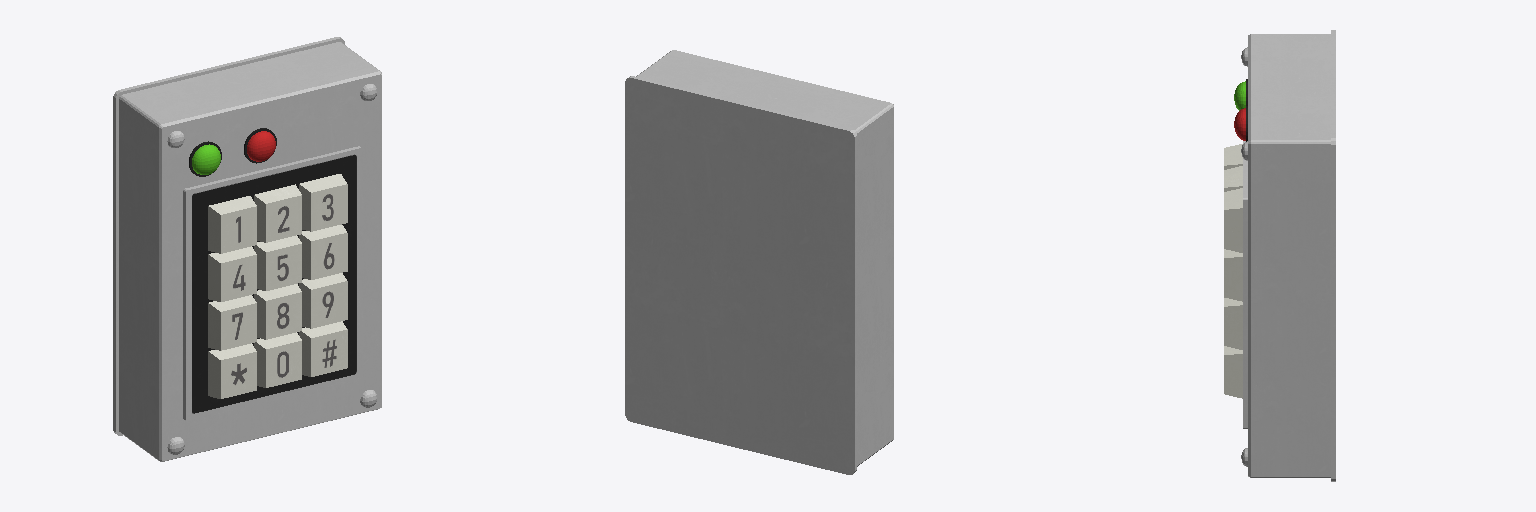
3 views of the same model, side by side, from view 1: azimuth 30°, elevation 25°; view 2: azimuth 150°, elevation 25°; view 3: azimuth 270°, elevation 25° (orthographic).
Parts seen in each view (by area): view 1: KeypadDoorLock; view 2: KeypadDoorLock; view 3: KeypadDoorLock.
Part boxes in pixels (bbox=[...]): KeypadDoorLock: bbox=[113, 37, 381, 461]; KeypadDoorLock: bbox=[625, 50, 893, 474]; KeypadDoorLock: bbox=[1224, 30, 1335, 481].
Bounding box in the file's own units: 3.64 × 5.21 × 1.54.
Materials: 1 (1 with a texture image).